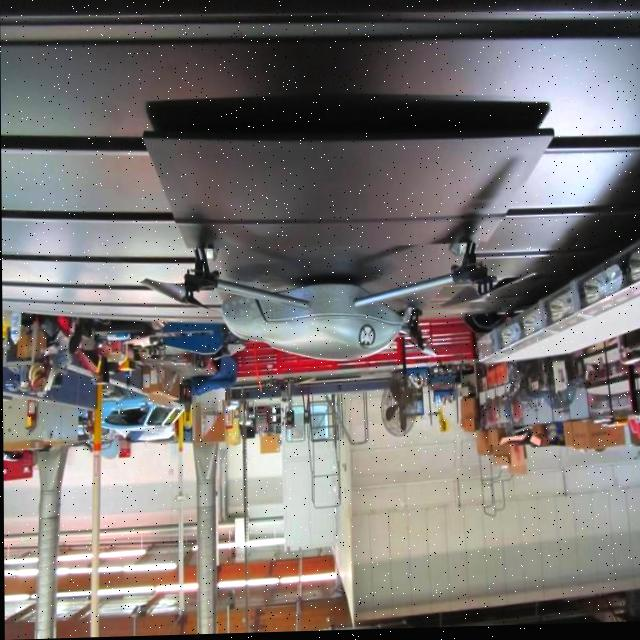drone: (135, 217, 509, 392)
